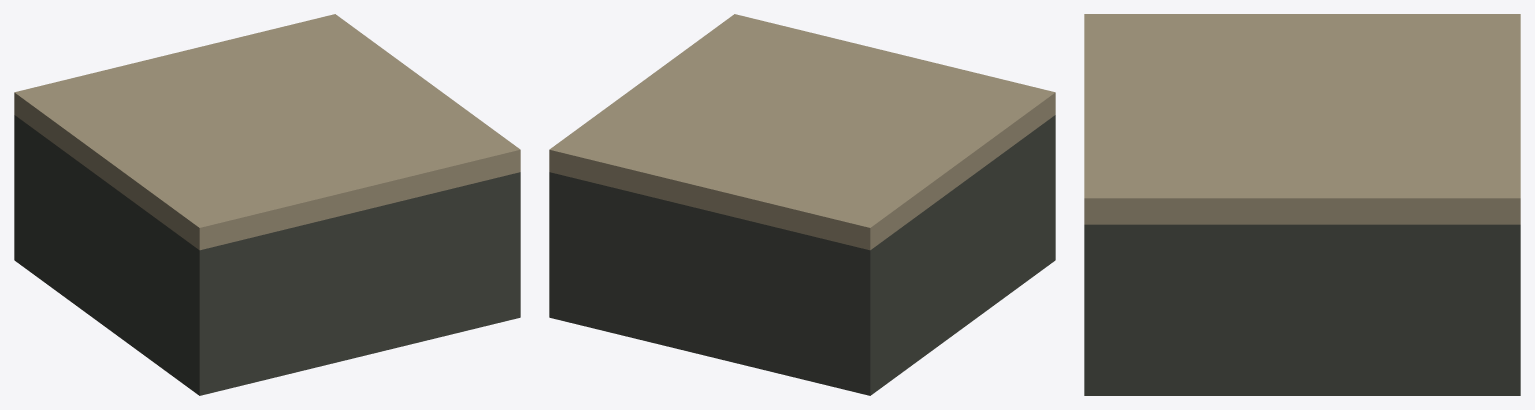
File: mall-floor-corner-trim.glb
3 renders of one model, left to right at view 1: azimuth 30°, elevation 25°; view 2: azimuth 150°, elevation 25°; view 3: azimuth 270°, elevation 25°, orthographic. The views are drawn at different scales.
Parts seen in each view (by area): view 1: TRIM_Body, TRIM_Cap; view 2: TRIM_Body, TRIM_Cap; view 3: TRIM_Cap, TRIM_Body.
Part boxes in pixels (box(x1,y1,x2,y2)): TRIM_Body: box(14, 115, 520, 395); TRIM_Cap: box(14, 14, 520, 250); TRIM_Body: box(549, 115, 1055, 395); TRIM_Cap: box(549, 14, 1055, 250); TRIM_Cap: box(1084, 14, 1520, 224); TRIM_Body: box(1084, 224, 1520, 395).
Bounding box in the file's own units: 0.06 × 0.03 × 0.06.
